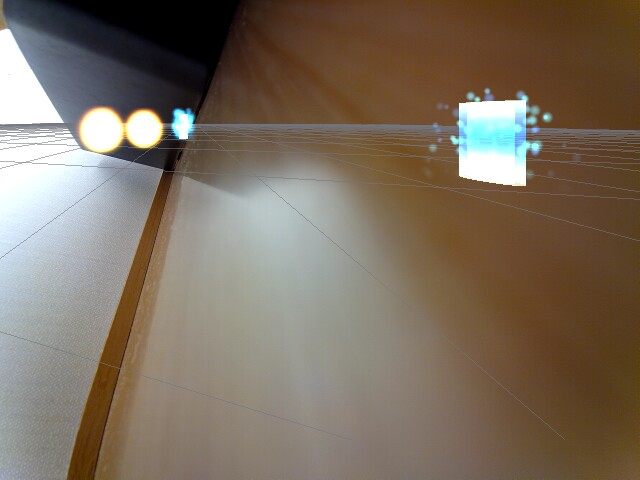firebig: (72, 103, 124, 154)
